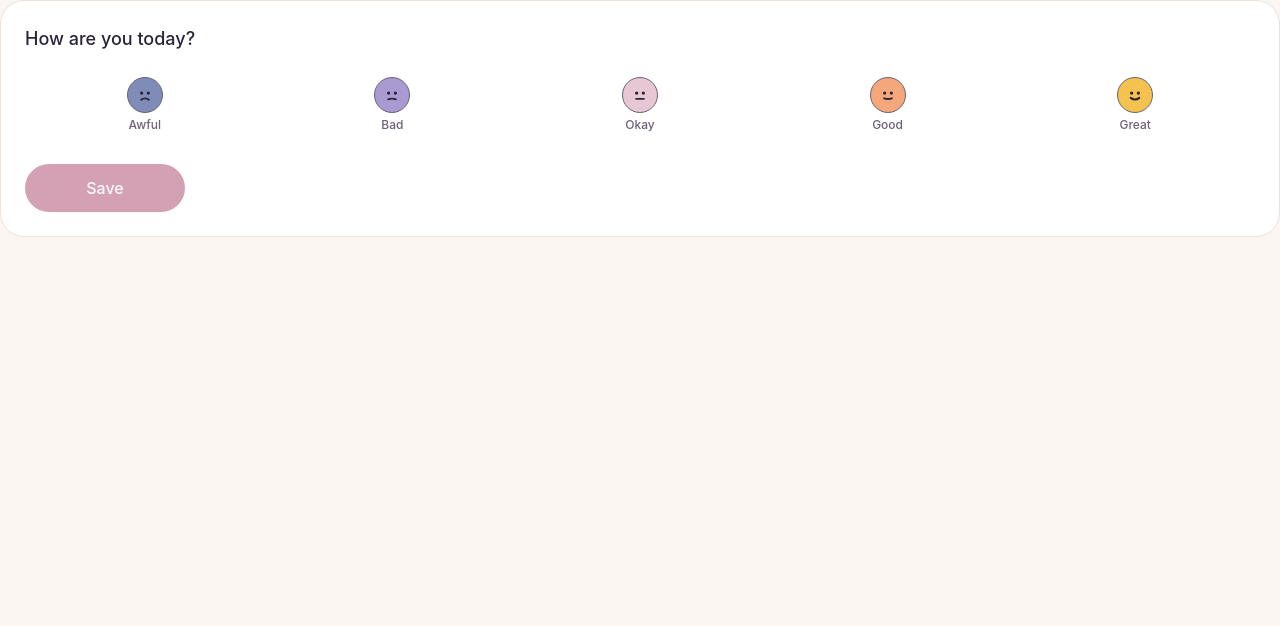
Scenario: CheckInCard › mood first: Save is disabled and the optional rows hidden until a mood is picked
Expected: the button with test id "checkin-save" is disabled, [25,164,185,212]
Click the radio button with test id "checkin-mood-3" at (640, 104), box [520,69,760,140]
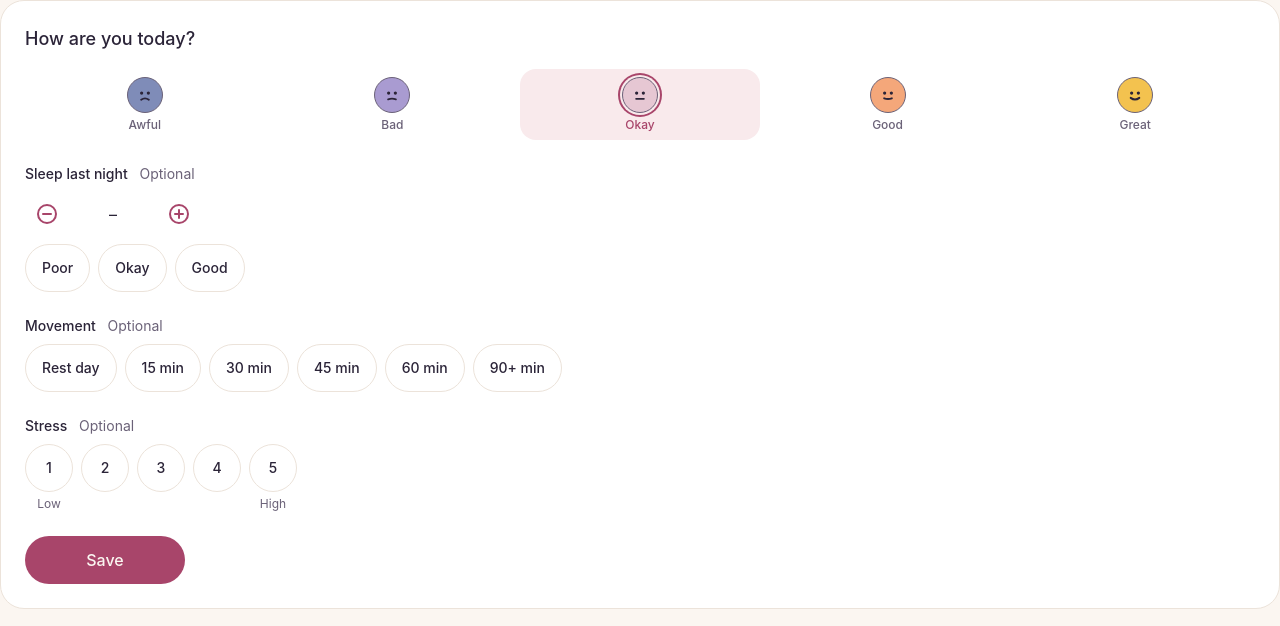
Result: the text "–" is shown at [109,204,117,224]
Result: the button with test id "checkin-save" is enabled at [25,536,185,584]
